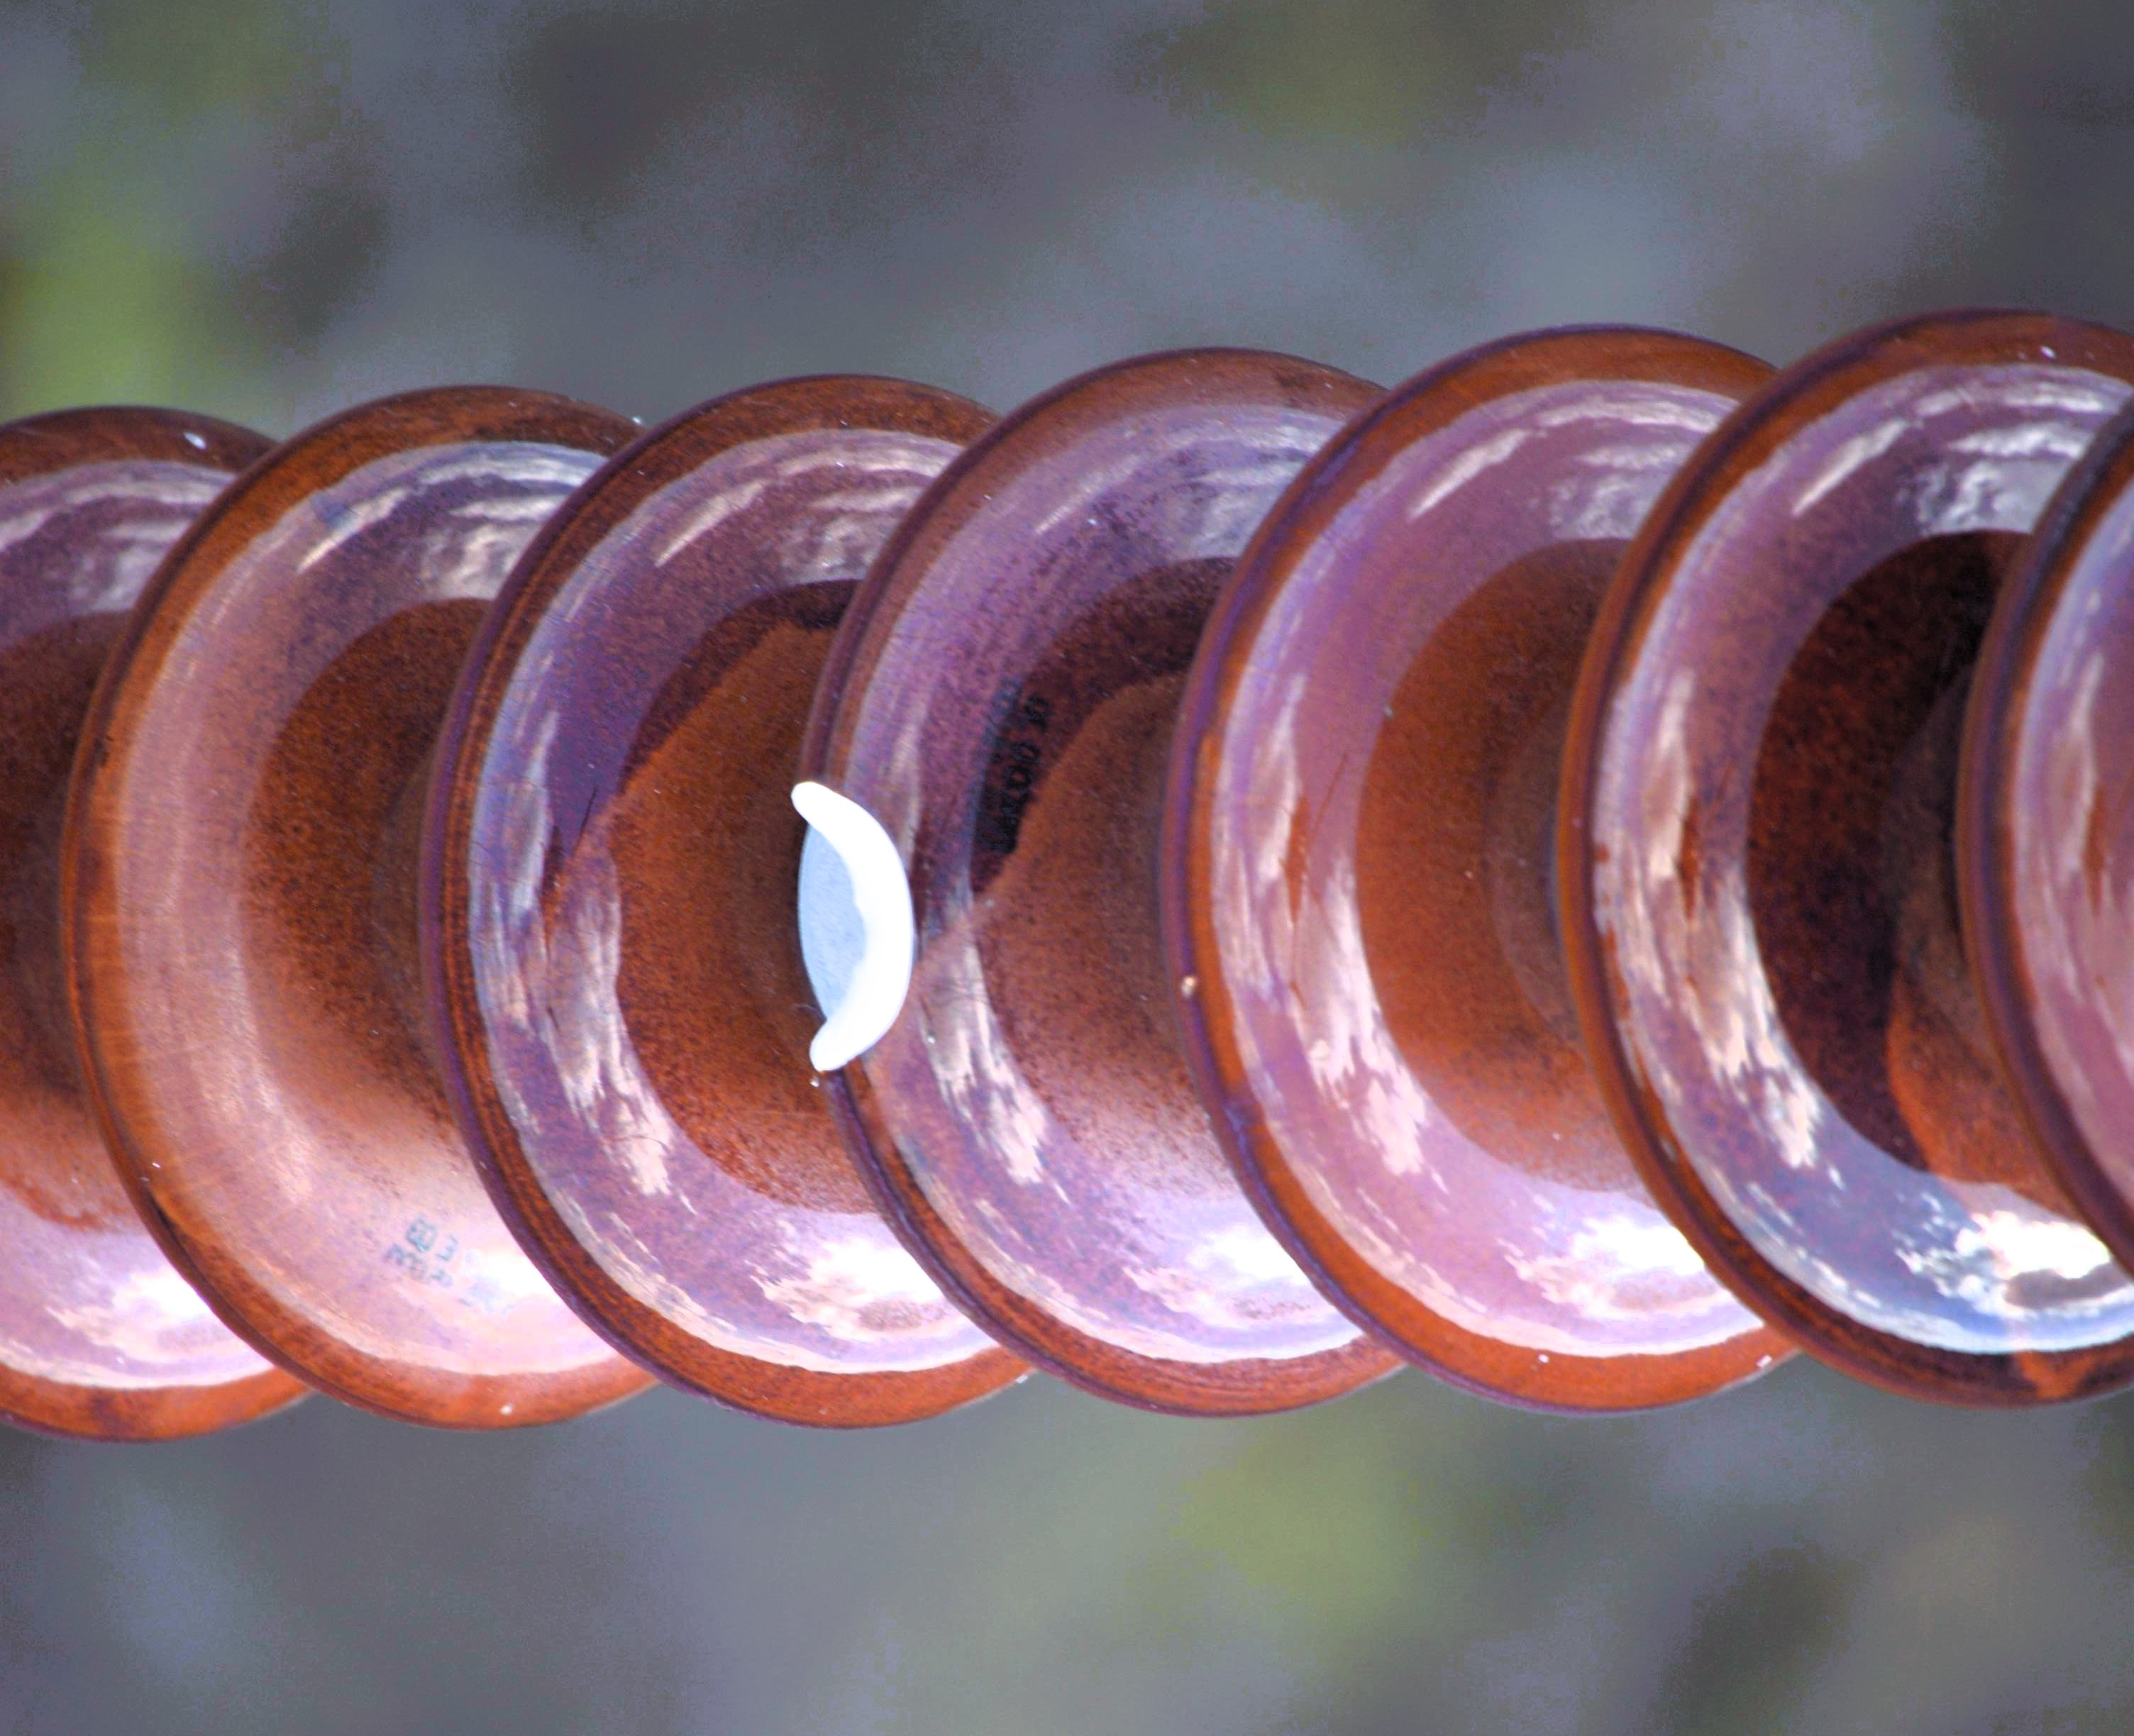insulator breakage: (760, 345, 1312, 1454)
